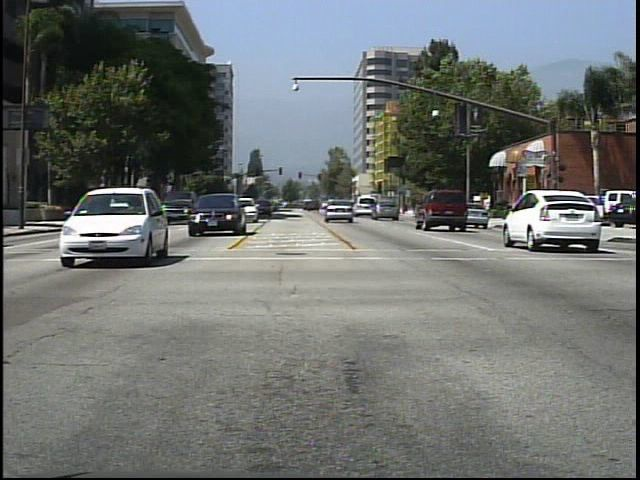person: (440, 192, 458, 226), (479, 191, 497, 223)
